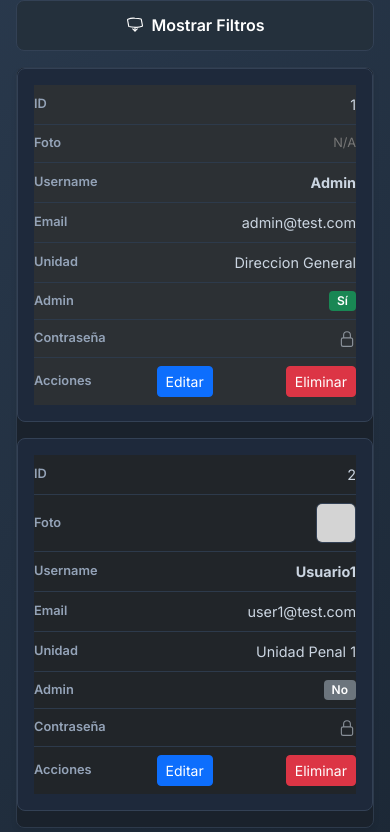
Test case: Componente AdminUserPage (Gestión de Usuarios) › Debe activar modo edición al hacer click en Editar
The image size is (390, 832).
(page scrolled)
Expected: the link "Usuario1" is shown, x1=296 y1=560 x2=356 y2=583
Click the button "Editar" below "Usuario1" at point(185, 770), box x1=157 y1=755 x2=213 y2=786
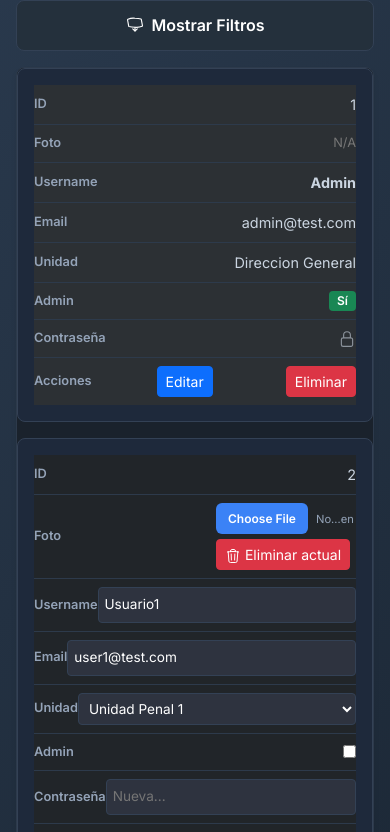
Result: the 1st field showing "Usuario1" is shown at x1=98 y1=587 x2=356 y2=623
